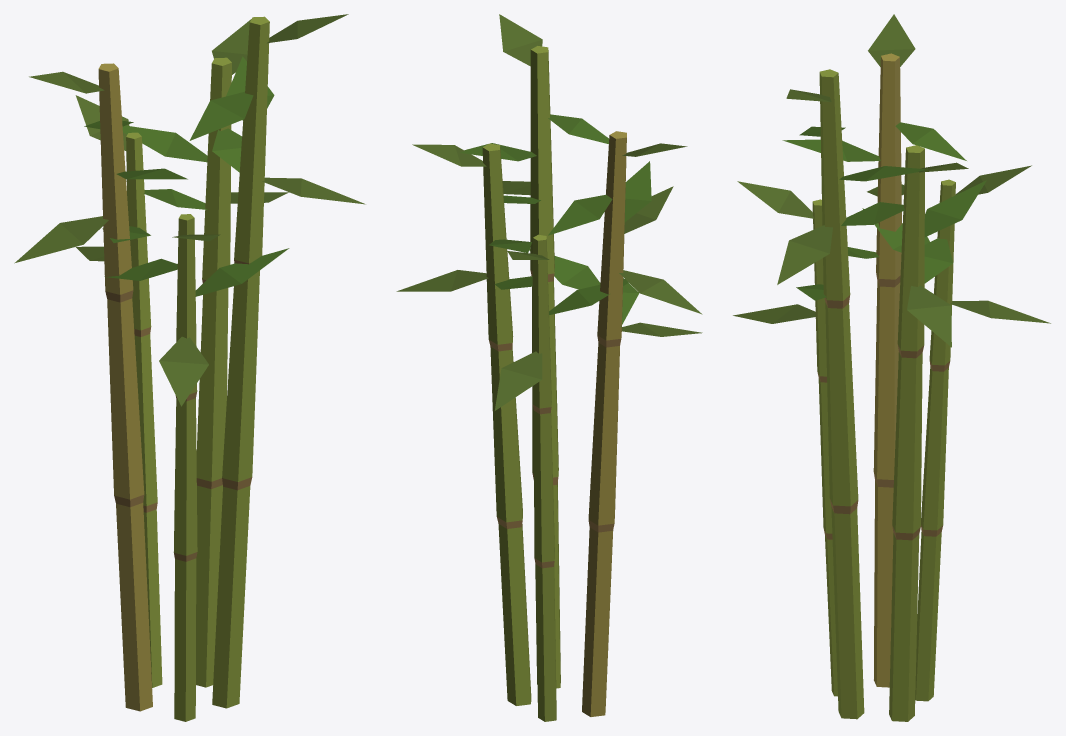
Rendered from E2_bamboo_b.glb.
The picture shows the model from 3 angles, left to right: view 1: azimuth 30°, elevation 25°; view 2: azimuth 150°, elevation 25°; view 3: azimuth 270°, elevation 25°; orthographic projection. The views are drawn at different scales.
Visible parts, largest first — view 1: E2_bamboo_b; view 2: E2_bamboo_b; view 3: E2_bamboo_b.
Boxes of the visible parts, left/top/right/bottom form: E2_bamboo_b: left=14, top=14, right=365, bottom=721; E2_bamboo_b: left=396, top=14, right=702, bottom=721; E2_bamboo_b: left=733, top=14, right=1050, bottom=721.
Size of the model in its own units: 1.53 by 3.3 by 1.45.
